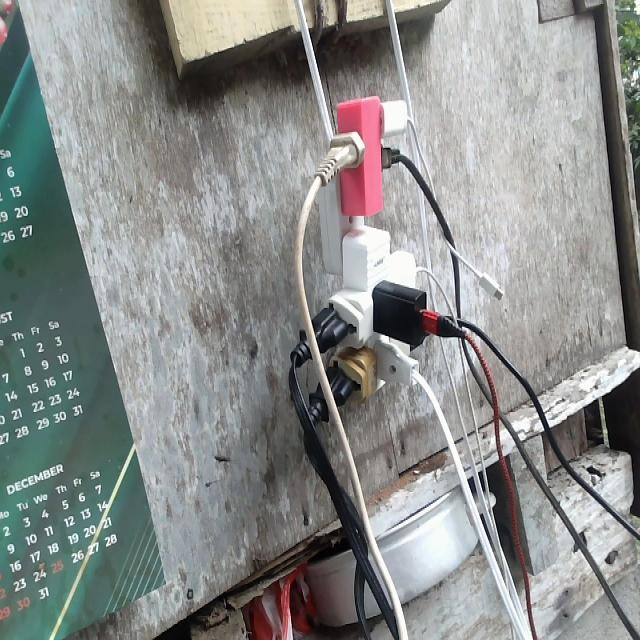-: (292, 96, 466, 425)
